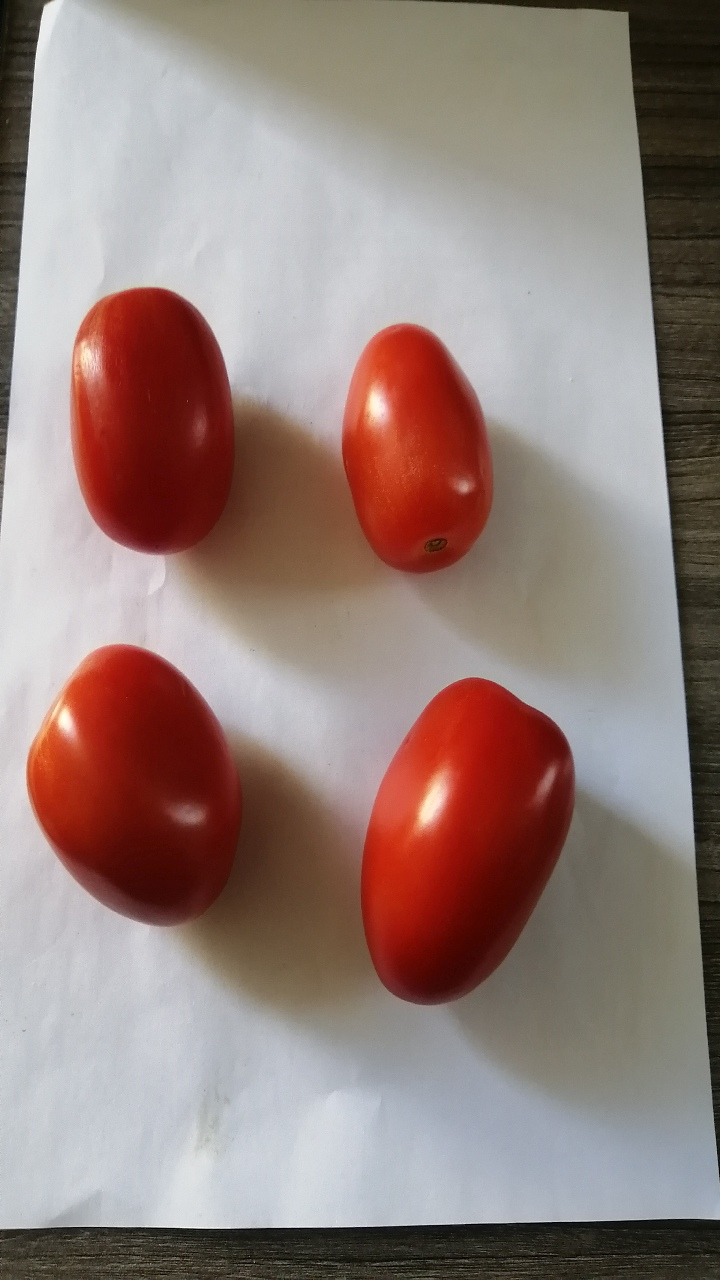tomateRojo: (341, 659, 586, 1048), (20, 631, 261, 935), (51, 279, 260, 575), (320, 308, 529, 588)
